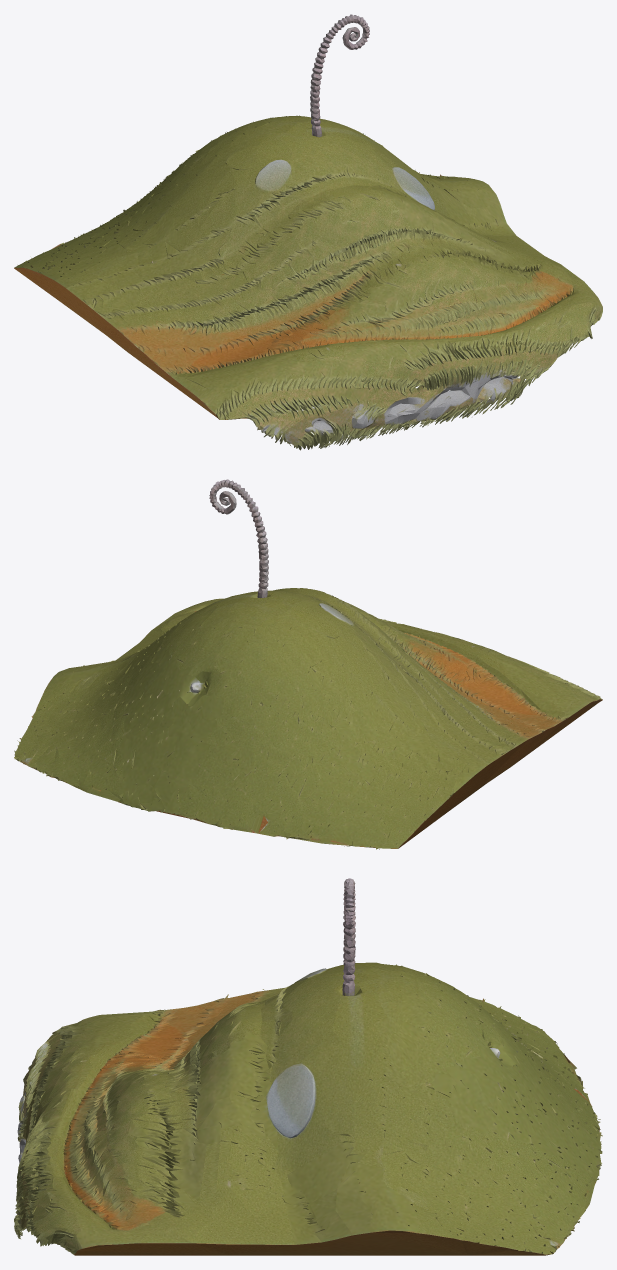
File: meshy-1795543713007.glb
3 views of the same model, one above another, from view 1: azimuth 30°, elevation 25°; view 2: azimuth 150°, elevation 25°; view 3: azimuth 270°, elevation 25° (orthographic). The views are drawn at different scales.
Size of the model in its own units: 1.88 by 1.24 by 1.89.
1 material, 1 textured.
